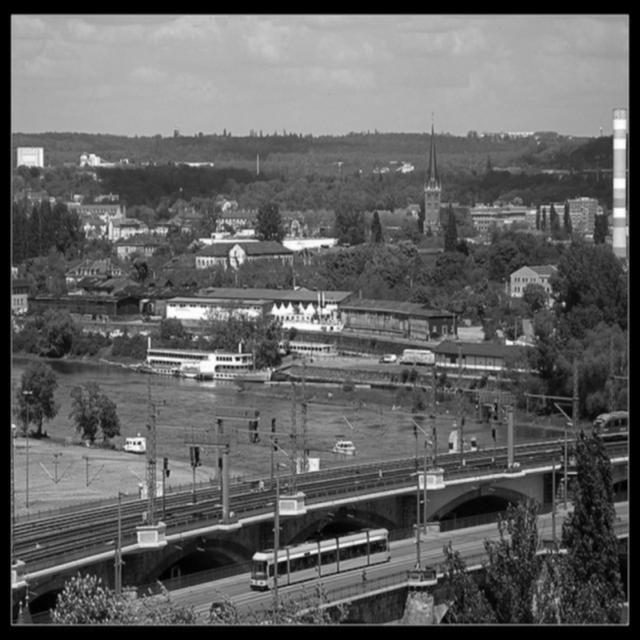car: (210, 602, 221, 612), (377, 353, 390, 361), (141, 312, 150, 320)
truck: (397, 346, 434, 364), (121, 434, 144, 452)
